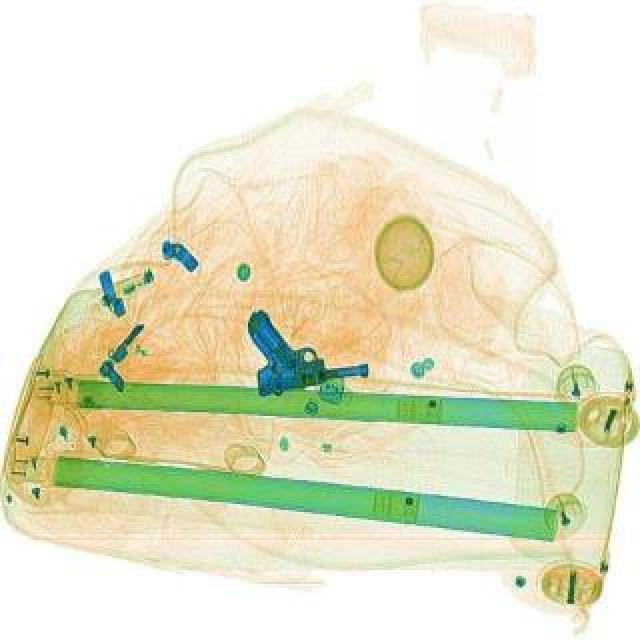gun: (236, 290, 372, 398)
